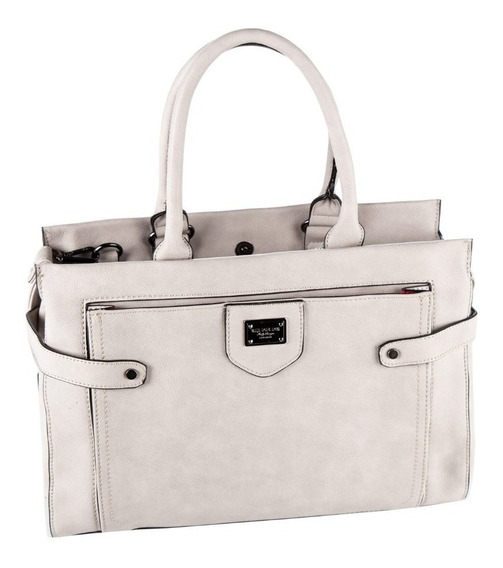cartera: (24, 25, 481, 538)
